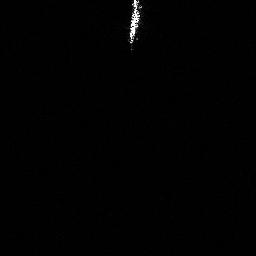ship: (125, 1, 143, 45)
